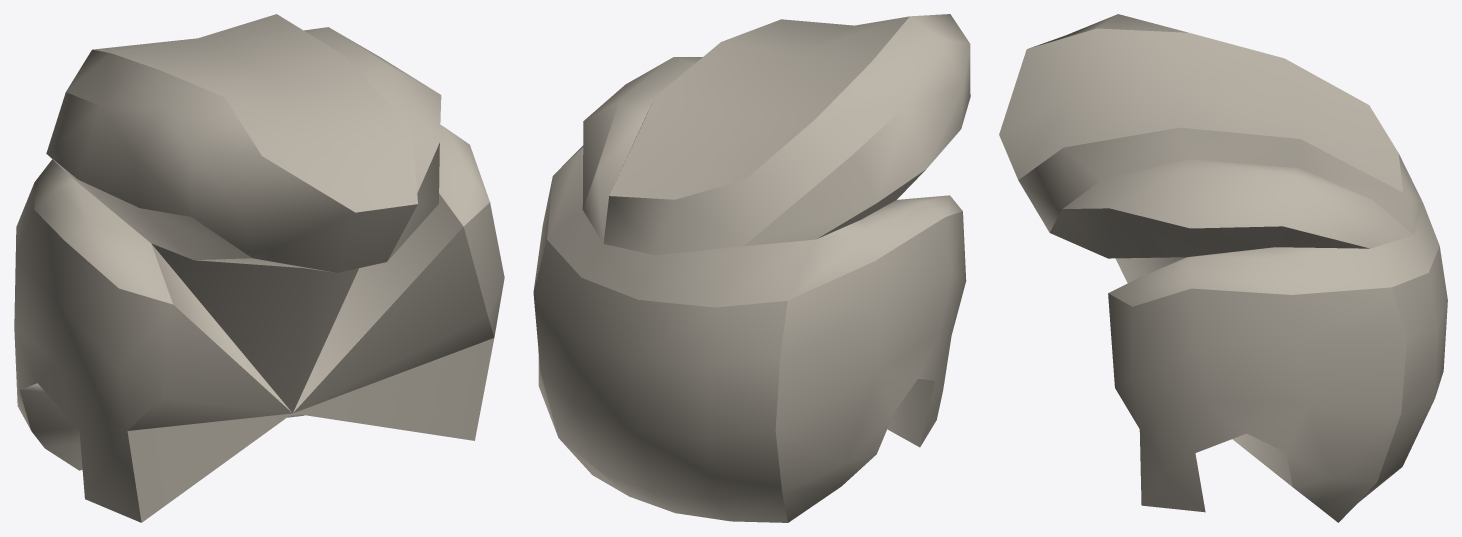
Rendered from Male_Hairs_03_v3.fbx.
The picture shows the model from 3 angles, left to right: view 1: azimuth 30°, elevation 25°; view 2: azimuth 150°, elevation 25°; view 3: azimuth 270°, elevation 25°; orthographic projection. The views are drawn at different scales.
Parts seen in each view (by area): view 1: Male_Hairs_03_v3; view 2: Male_Hairs_03_v3; view 3: Male_Hairs_03_v3.
Part boxes in pixels (left/top/right/bottom): Male_Hairs_03_v3: left=14, top=14, right=504, bottom=522; Male_Hairs_03_v3: left=533, top=14, right=970, bottom=522; Male_Hairs_03_v3: left=999, top=14, right=1447, bottom=522.
Size of the model in its own units: 58.17 by 63.26 by 63.4.
